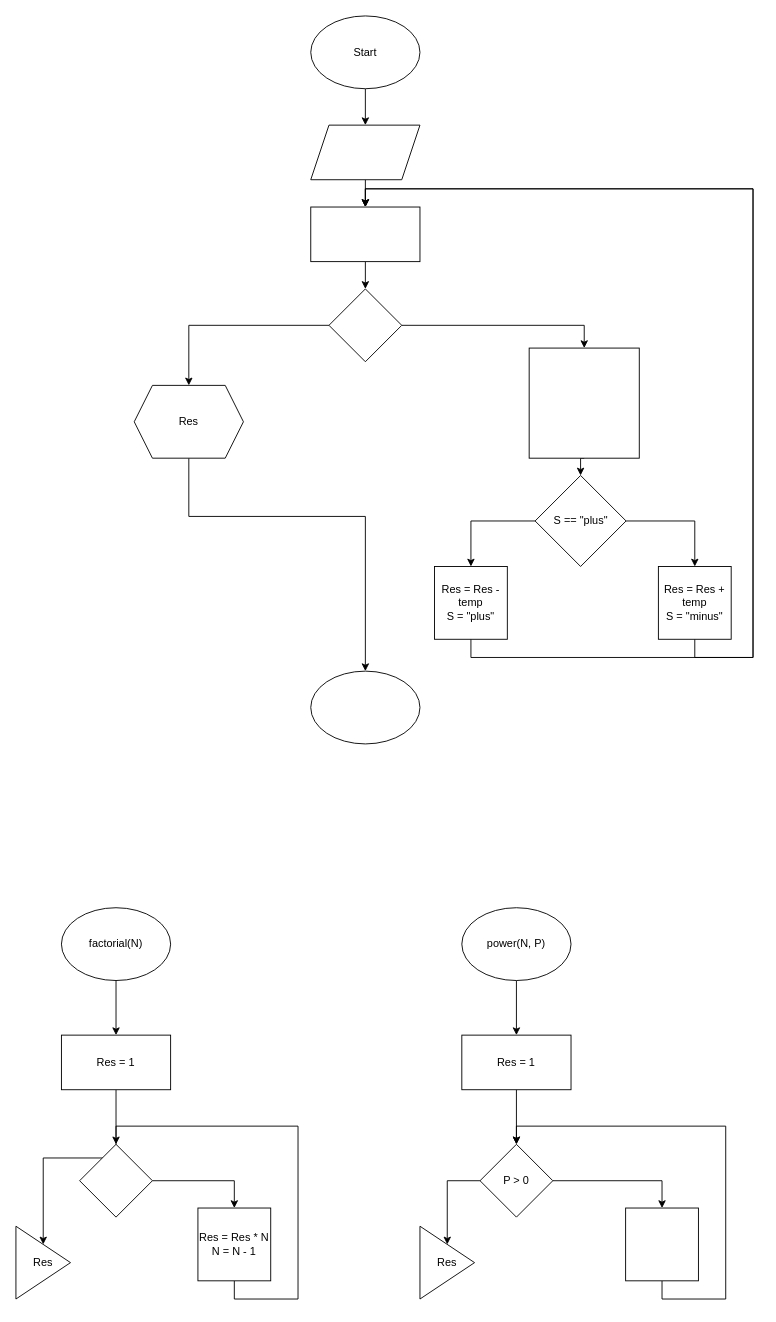
The diagram is 776 pixels wide and 1322 high, and some of its shapes have lost their labels. Each missing label, with the box of its shape:
N > 0: (79, 1143, 152, 1217)
P = 3 Res = 0 S = "minus": (310, 206, 420, 262)
P > N: (328, 288, 402, 362)
Res = Res * N P = P - 1: (625, 1207, 698, 1281)
Stop: (310, 670, 420, 744)
temp = power(N, P) / factorial(P) P = P + 2: (528, 347, 639, 458)
X N: (310, 124, 420, 180)
